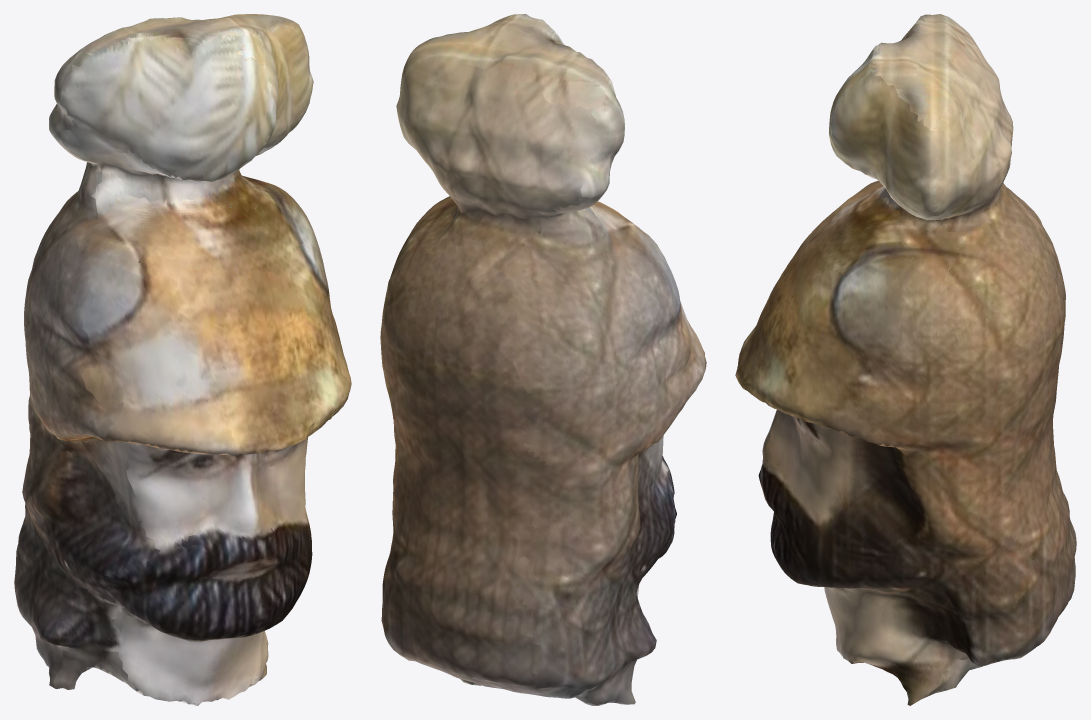
The model's file is Defiance.glb.
3 renders of one model, left to right at view 1: azimuth 30°, elevation 25°; view 2: azimuth 150°, elevation 25°; view 3: azimuth 270°, elevation 25°, orthographic. The views are drawn at different scales.
Visible parts, largest first — view 1: defiance_Figurehead; view 2: defiance_Figurehead; view 3: defiance_Figurehead.
Part boxes in pixels (bbox=[...]): defiance_Figurehead: bbox=[14, 14, 351, 705]; defiance_Figurehead: bbox=[380, 14, 706, 705]; defiance_Figurehead: bbox=[735, 14, 1076, 705].
Size of the model in its own units: 1.71 by 4.1 by 2.
1 material, 1 textured.
